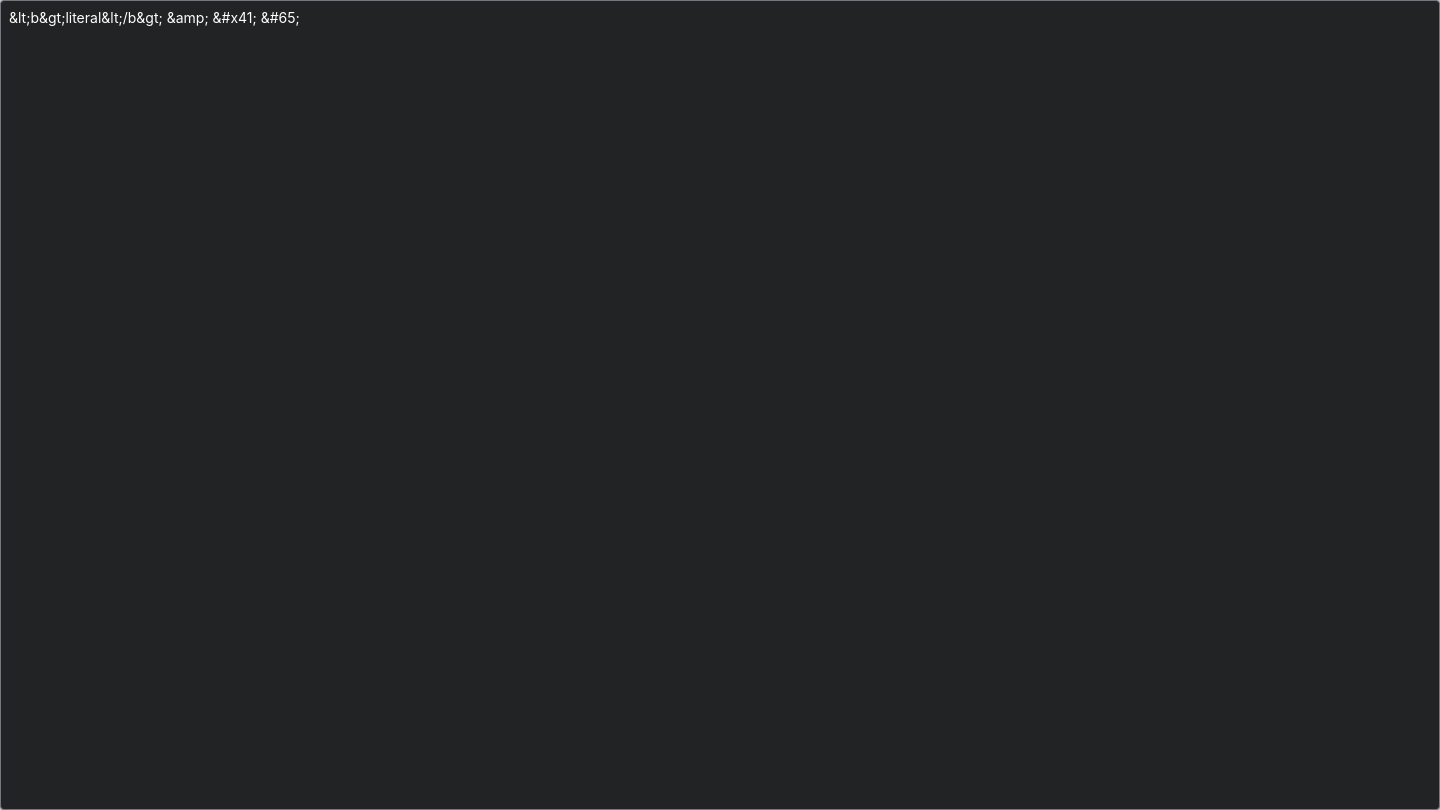
Scenario: TextNode legacy HTML content › preserves entity spelling in saved legacy HTML after remounting
The width and height of the screenshot is (1440, 810).
Later steps or results of the test are not shown.
Double-click the text "&lt;b&gt;literal&lt;/b&gt; &amp; &#x41; &#65;" at (154, 18), box [9,9,300,26]
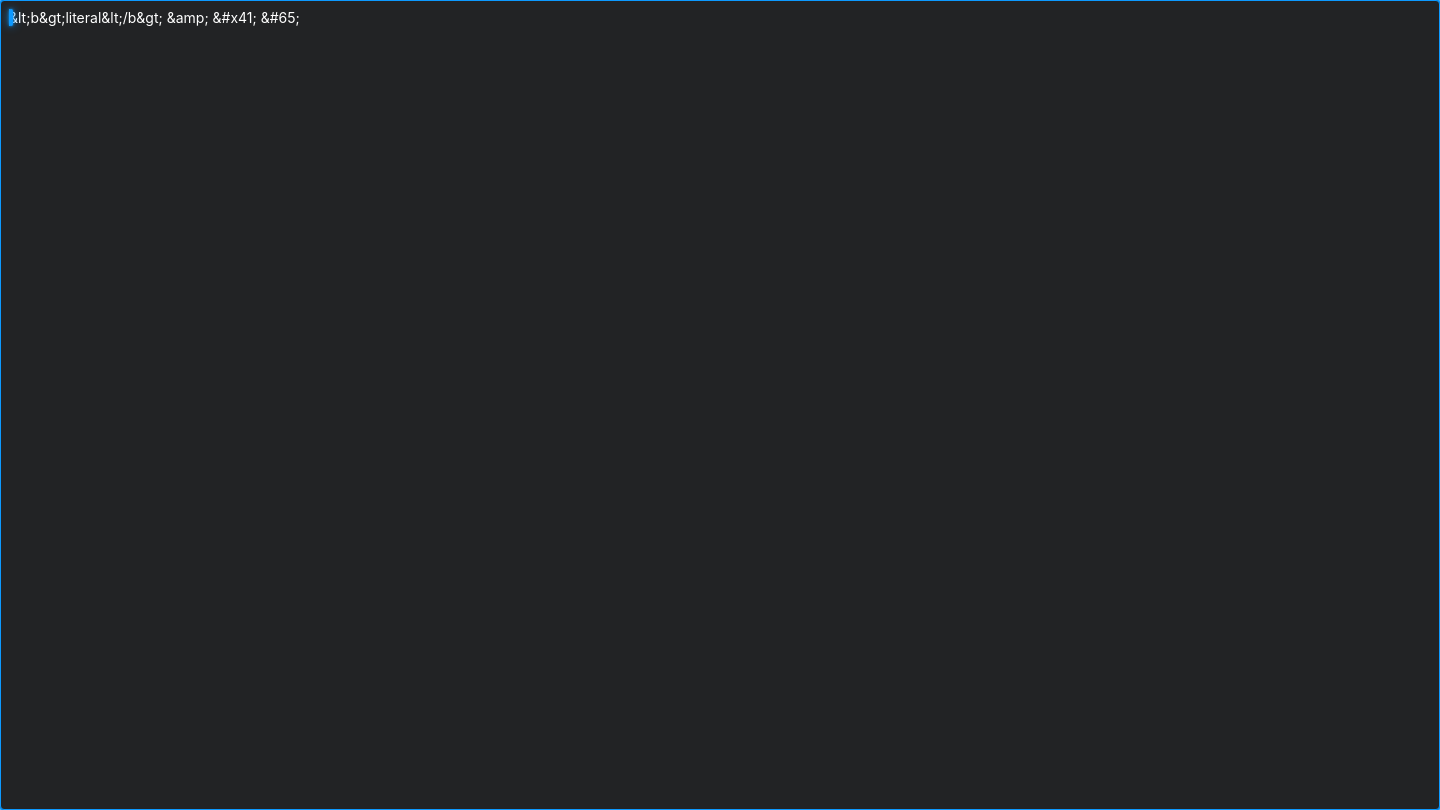
Leave the text box named "文本节点内容"
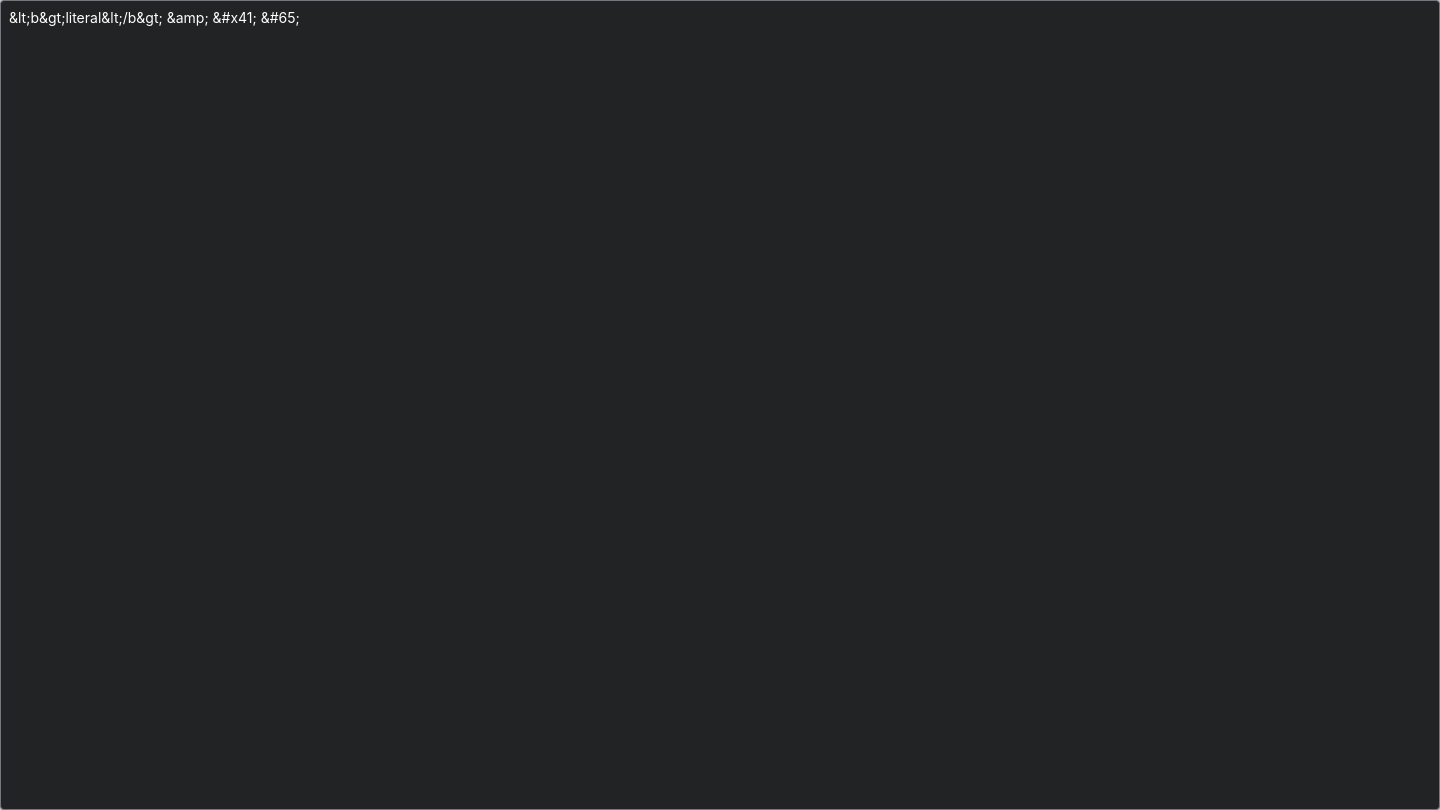
Check: the text "&lt;b&gt;literal&lt;/b&gt; &amp; &#x41; &#65;" is shown, box [9,9,300,26]
